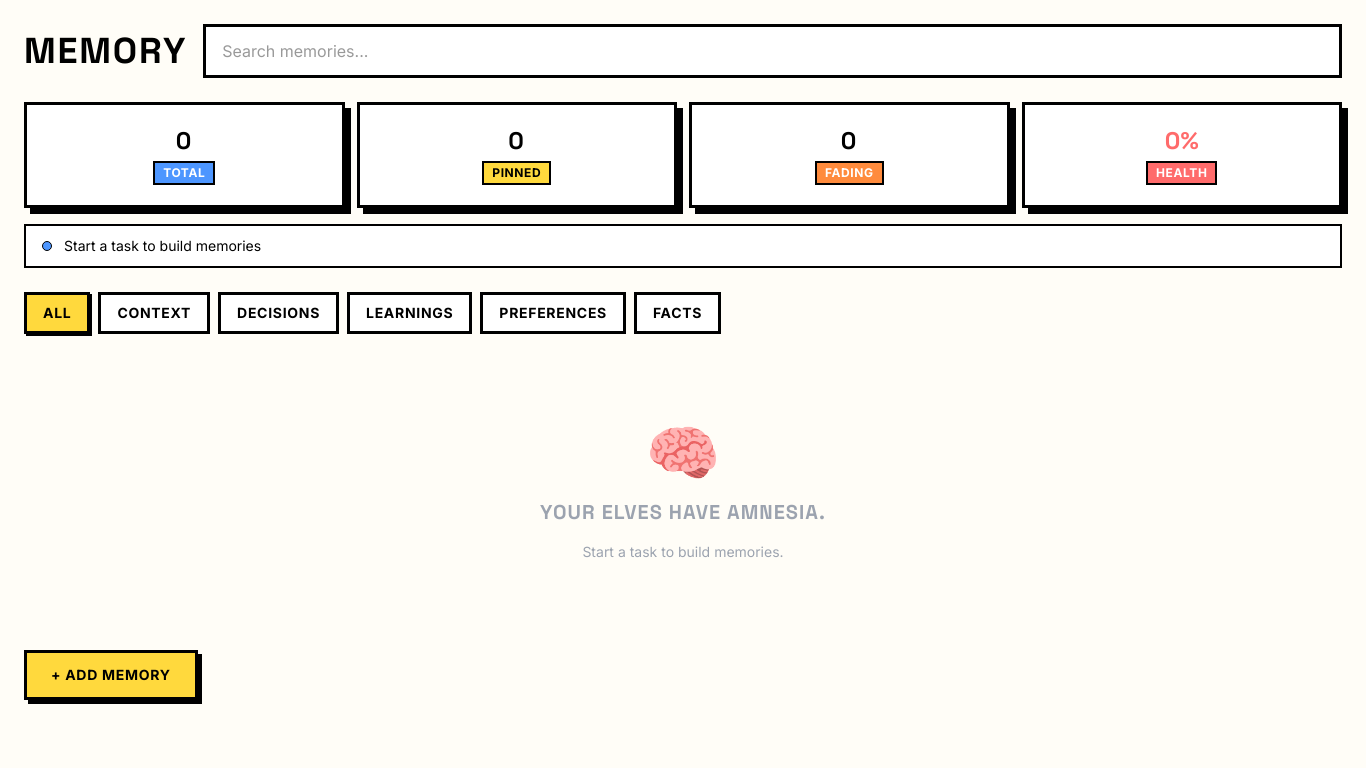
Test case: MemoryExplorer › closes the add form on cancel
Click the button with test id "add-memory-button" at [111, 675], box left=24, top=650, right=198, bottom=700
(page scrolled)
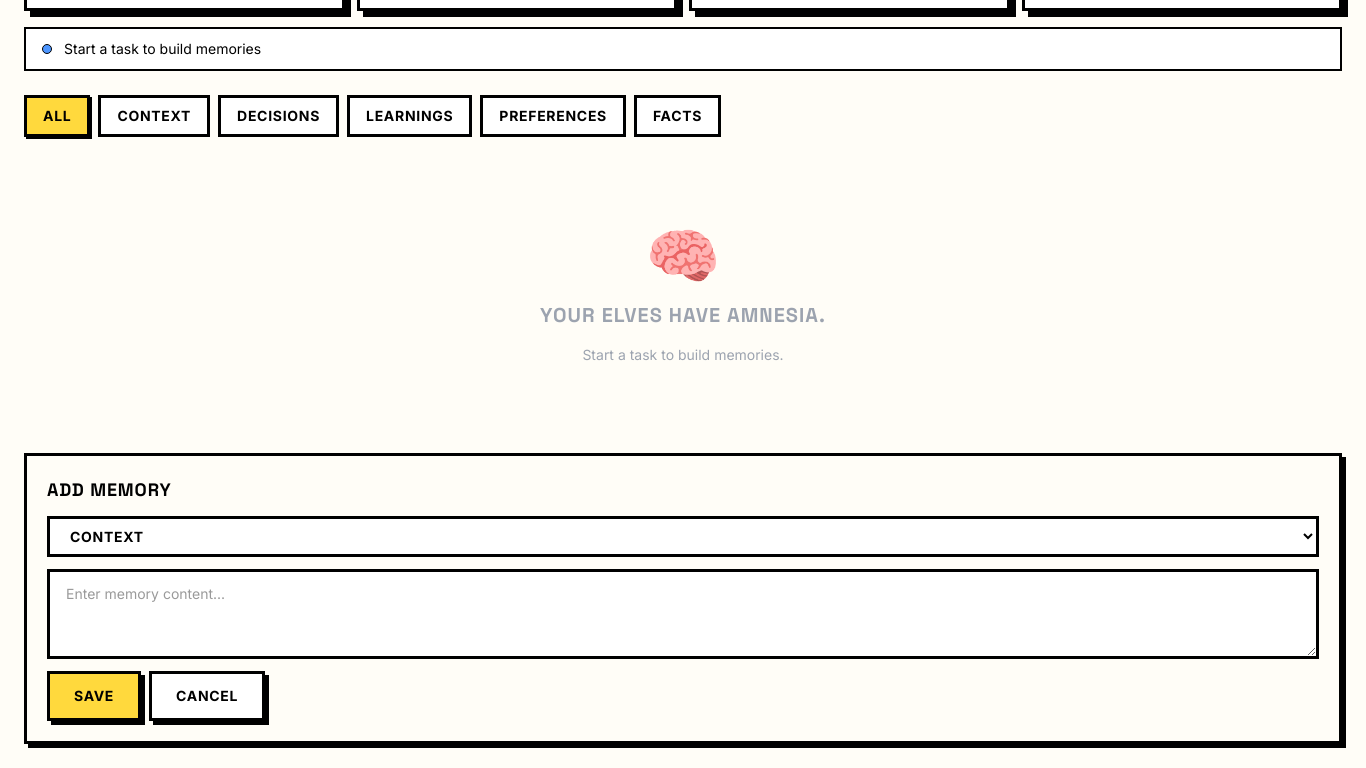
Now the element with test id "add-memory-form" is shown, box left=24, top=453, right=1342, bottom=744
Click the button with test id "add-memory-cancel" at [207, 696], box left=149, top=671, right=265, bottom=721
(page scrolled)
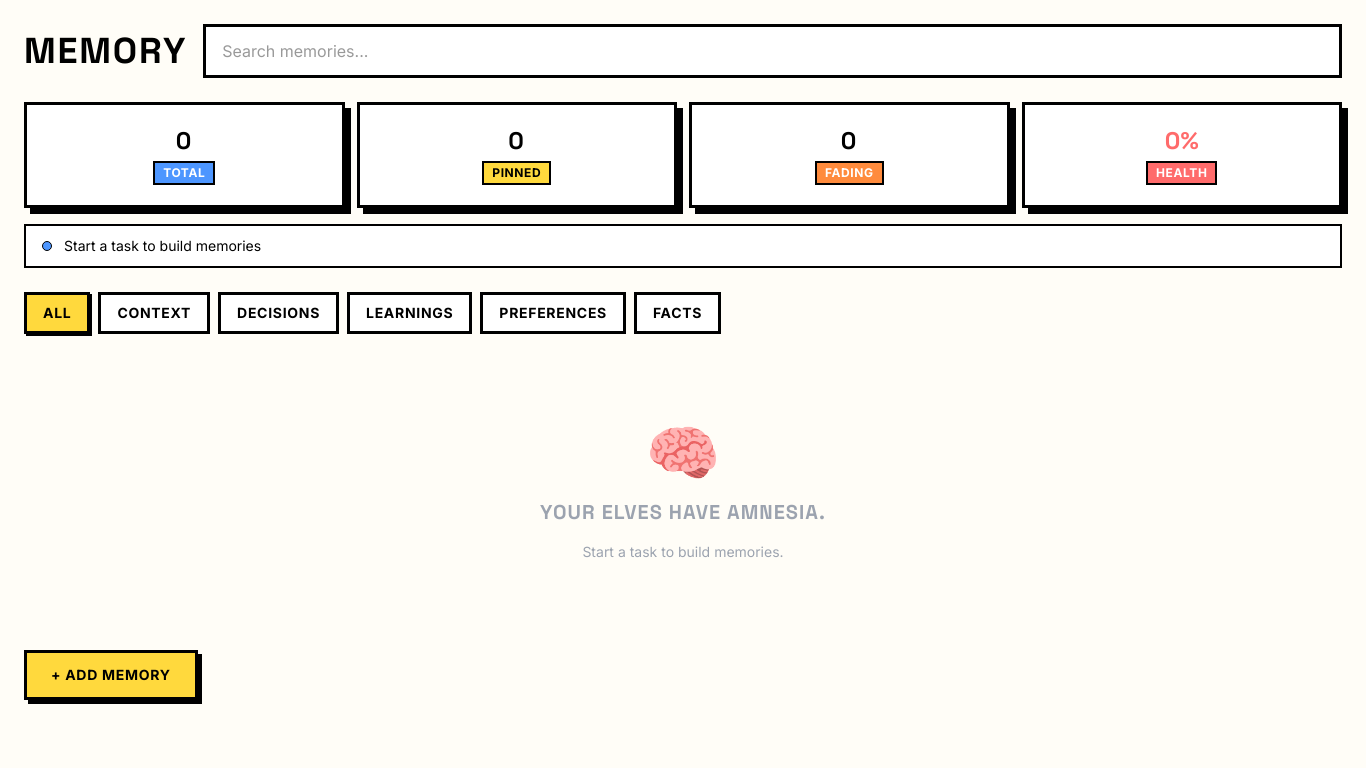
Now the element with test id "add-memory-form" is gone
